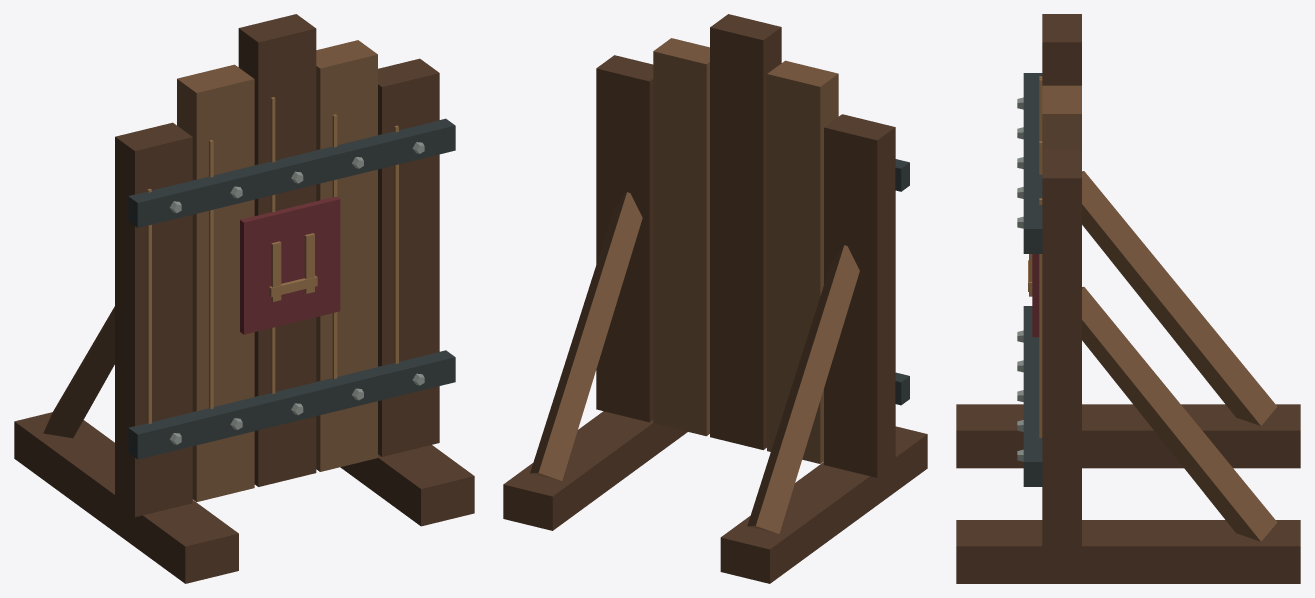
Rendered from watch-mantlet.glb.
3 views of the same model, side by side, from view 1: azimuth 30°, elevation 25°; view 2: azimuth 150°, elevation 25°; view 3: azimuth 270°, elevation 25° (orthographic). The views are drawn at different scales.
Visible parts, largest first — view 1: Watch mantlet; view 2: Watch mantlet; view 3: Watch mantlet.
Boxes of the visible parts, x1,y1,x2,y2 form: Watch mantlet: [14, 14, 474, 583]; Watch mantlet: [503, 14, 927, 583]; Watch mantlet: [956, 14, 1300, 583].
Size of the model in its own units: 0.89 by 1.29 by 0.83.
